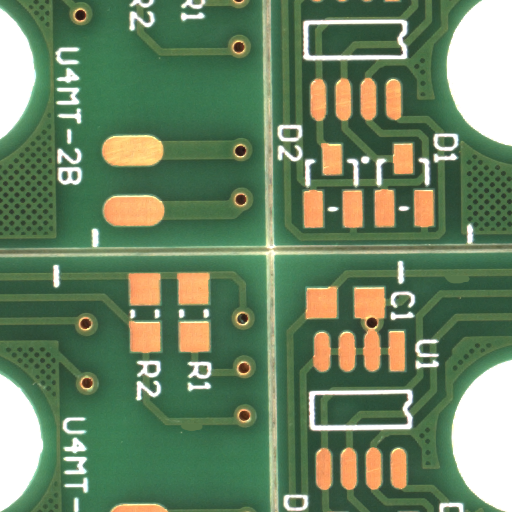Spur: (456, 279, 487, 291), (191, 426, 218, 437)
